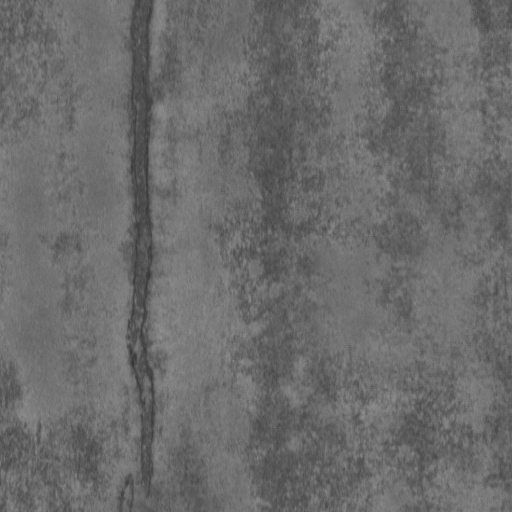zongxiangliewen: (126, 1, 157, 499)
